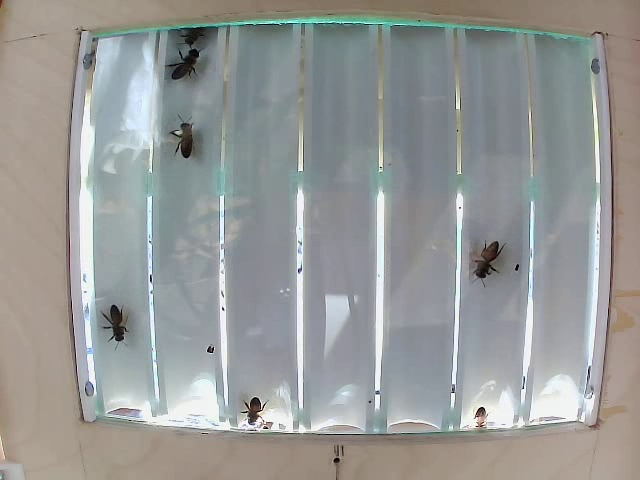bee: (456, 232, 517, 283), (91, 302, 140, 342), (230, 389, 270, 433), (167, 117, 205, 162), (171, 47, 209, 81)
